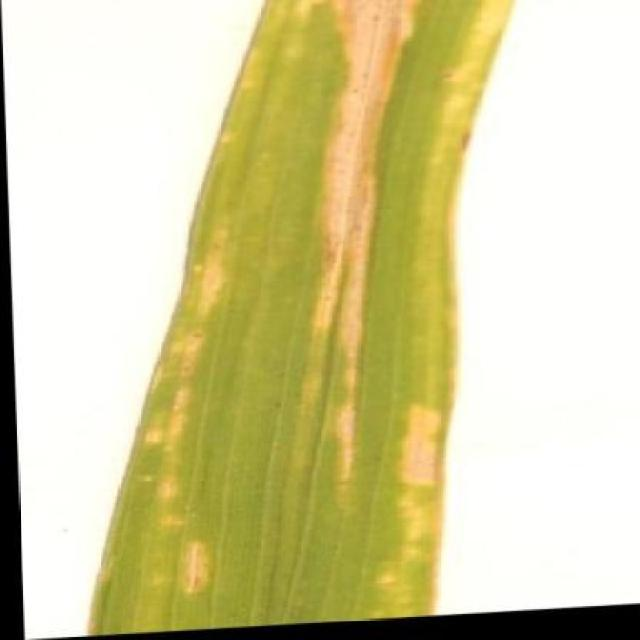Brown_Spot: (133, 0, 530, 622)
